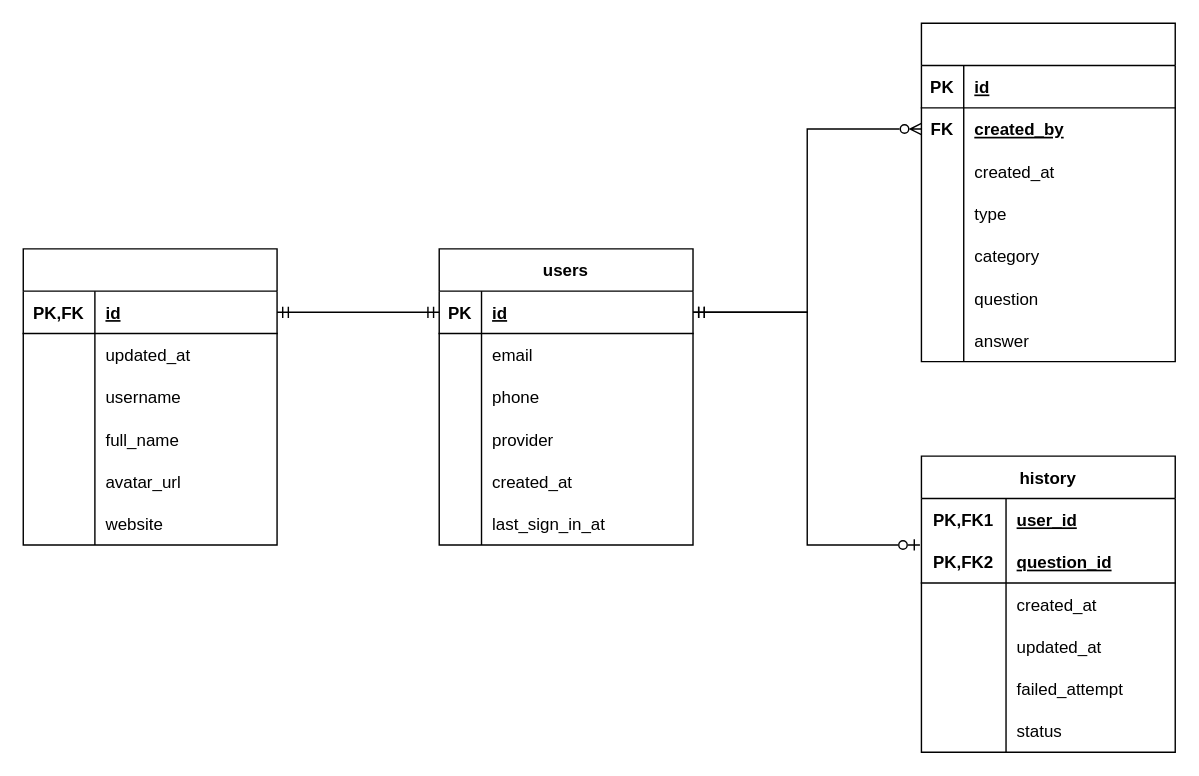
This 1199x776 diagram has some shape labels left out. Here are the shapes that lost their labels. From the top down, the box of each, then its label:
(920, 22, 1175, 362): questions
(22, 247, 277, 545): profiles
